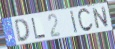2: (47, 13, 62, 39)
C: (77, 7, 95, 33)
D: (13, 18, 31, 43)
I: (69, 10, 79, 35)
L: (31, 17, 47, 40)
N: (92, 5, 110, 31)
